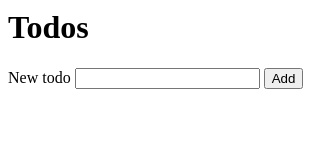
Test case: App › toggles only the clicked todo done and back
This screenshot has width=320, height=166.
In the field labelled "New todo": (167, 78) [75,68,260,89], type "Buy milk"
Then press Enter
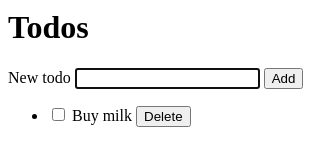
In the field labelled "New todo": (167, 78) [75,68,260,89], type "Walk dog"
Then press Enter
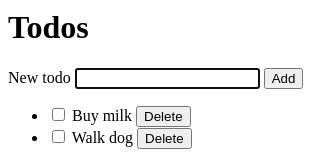
Click the checkbox labelled "Buy milk": (58, 114) [52,108,65,121]
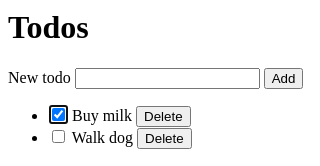
Expected: the checkbox labelled "Buy milk" is checked
Expected: the checkbox labelled "Walk dog" is not checked, [52,130,65,143]
Click the checkbox labelled "Buy milk": (58, 114) [52,108,65,121]
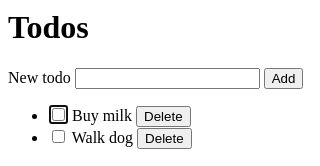
Expected: the checkbox labelled "Buy milk" is not checked, [52,108,65,121]
